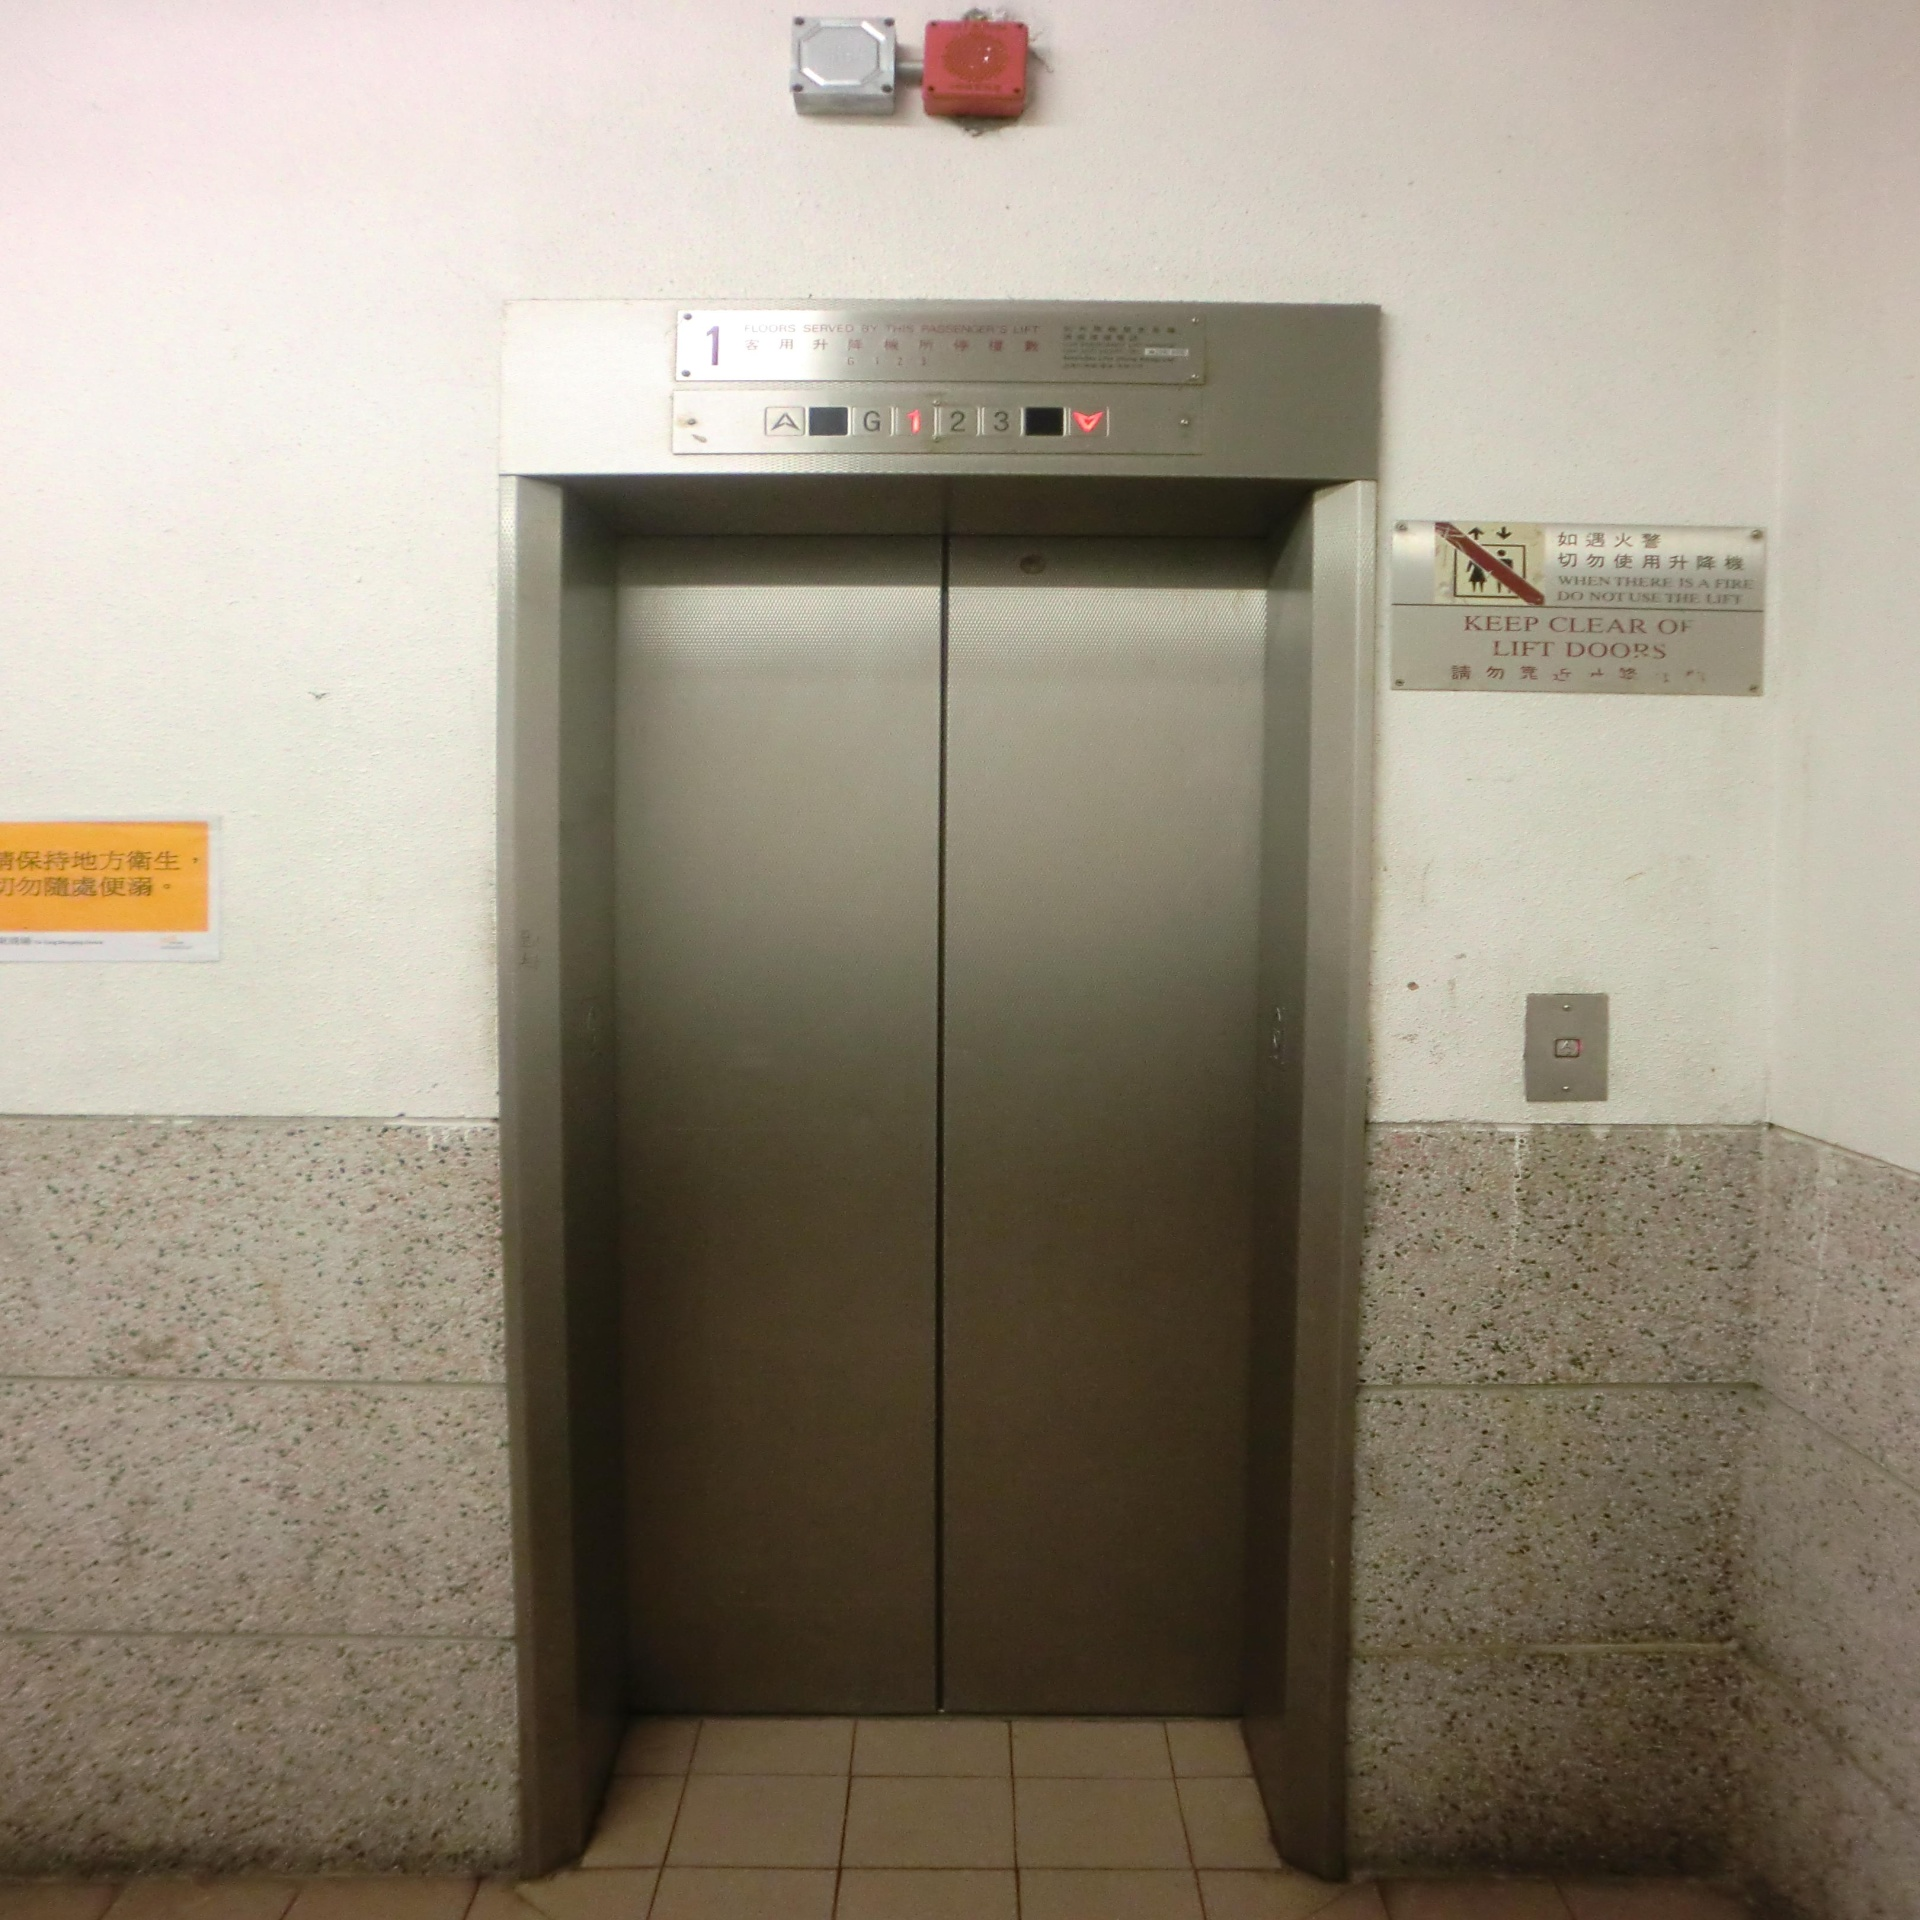1: (895, 404, 935, 436)
2: (937, 404, 979, 434)
3: (981, 404, 1023, 434)
G: (851, 406, 893, 434)
down: (1067, 406, 1109, 438)
empty: (1023, 406, 1065, 436), (807, 406, 847, 434)
up: (765, 404, 807, 434), (1553, 1036, 1581, 1060)
